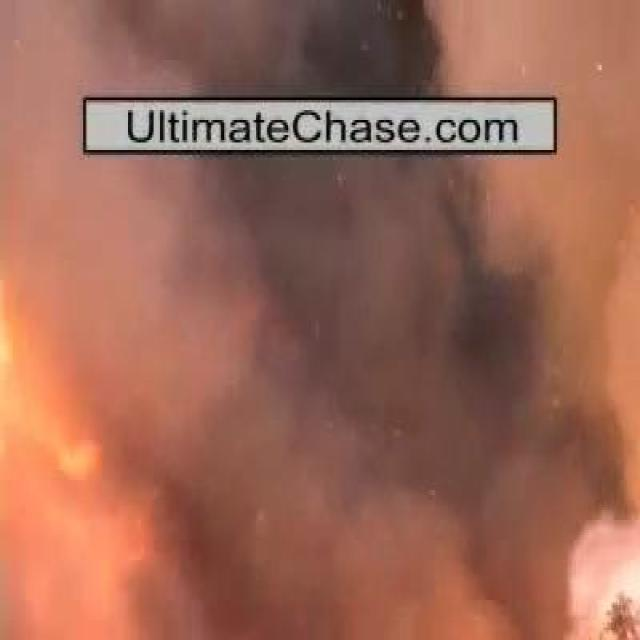Smoke: (104, 188, 552, 554)
